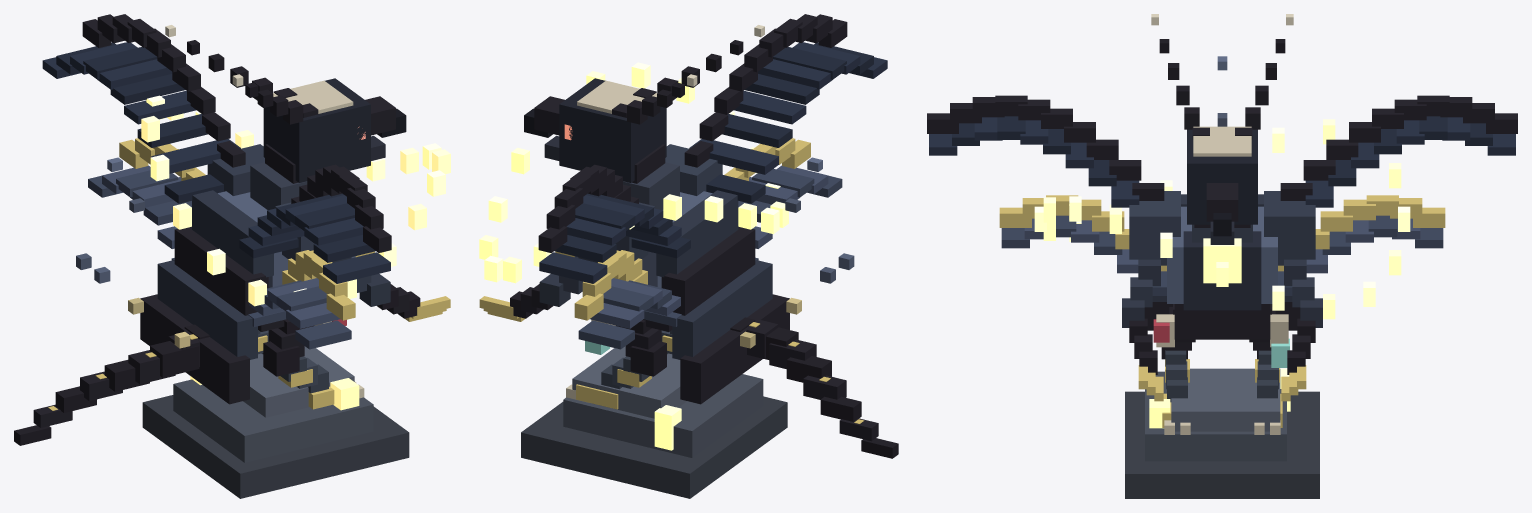
The model's file is ladder-crowman.glb.
3 views of the same model, side by side, from view 1: azimuth 30°, elevation 25°; view 2: azimuth 150°, elevation 25°; view 3: azimuth 270°, elevation 25° (orthographic).
Parts seen in each view (by area): view 1: Wings, StonePillar, Cloak, LowerWings, Head, Runes, Tail, Crest, Legs, Neck, Shoulders, Arms (+5 smaller); view 2: Wings, StonePillar, Cloak, LowerWings, Head, Runes, Tail, Crest, Legs, Neck, Arms, Shoulders (+6 smaller); view 3: Wings, StonePillar, LowerWings, Runes, Shoulders, Body, Head, Arms, Armor, Legs, Crest, Claws (+5 smaller).
Boxes of the visible parts, box(x1,y1,x2,y2) form: Wings: box(42, 14, 391, 283); StonePillar: box(142, 346, 409, 498); Cloak: box(140, 190, 273, 404); LowerWings: box(88, 138, 355, 349); Head: box(263, 78, 370, 182); Runes: box(141, 95, 450, 410); Tail: box(14, 324, 209, 445); Crest: box(165, 25, 318, 124); Legs: box(258, 320, 328, 393); Neck: box(250, 144, 307, 210); Shoulders: box(207, 144, 314, 260); Arms: box(332, 257, 420, 318); Wings: box(538, 14, 887, 283); StonePillar: box(521, 346, 787, 498); Cloak: box(656, 190, 789, 404); LowerWings: box(574, 138, 842, 349); Head: box(559, 78, 666, 182); Runes: box(479, 62, 788, 450); Tail: box(730, 317, 898, 458); Crest: box(612, 25, 764, 124); Legs: box(601, 320, 672, 389); Neck: box(623, 144, 679, 210); Arms: box(510, 257, 597, 318); Shoulders: box(615, 144, 722, 260); Wings: box(927, 95, 1517, 207); StonePillar: box(1125, 368, 1319, 498); LowerWings: box(999, 195, 1445, 295); Runes: box(1034, 119, 1410, 428); Shoulders: box(1129, 191, 1315, 259); Body: box(1167, 206, 1277, 339); Head: box(1187, 126, 1257, 224); Arms: box(1122, 259, 1322, 374); Armor: box(1165, 231, 1279, 382); Legs: box(1161, 304, 1278, 402); Crest: box(1151, 14, 1293, 139); Claws: box(1138, 365, 1306, 434).
Bounding box in the file's own units: 6.8 × 6.8 × 8.94.
